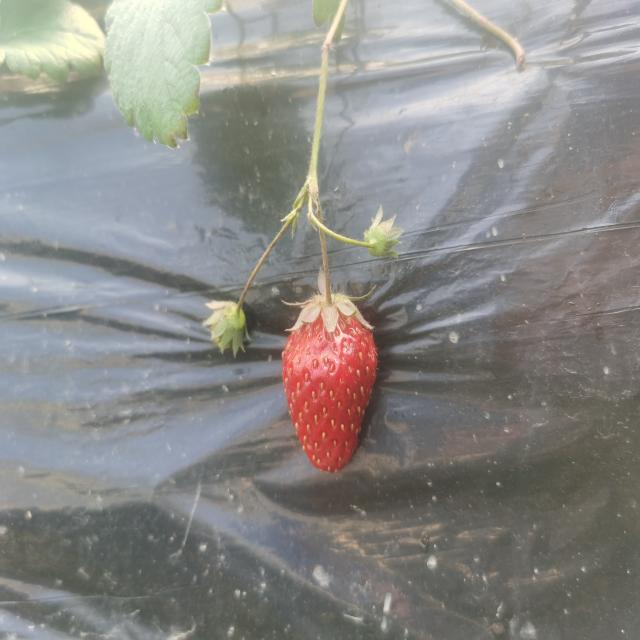stem: (320, 237, 333, 308)
strawberry: (282, 295, 377, 474)
